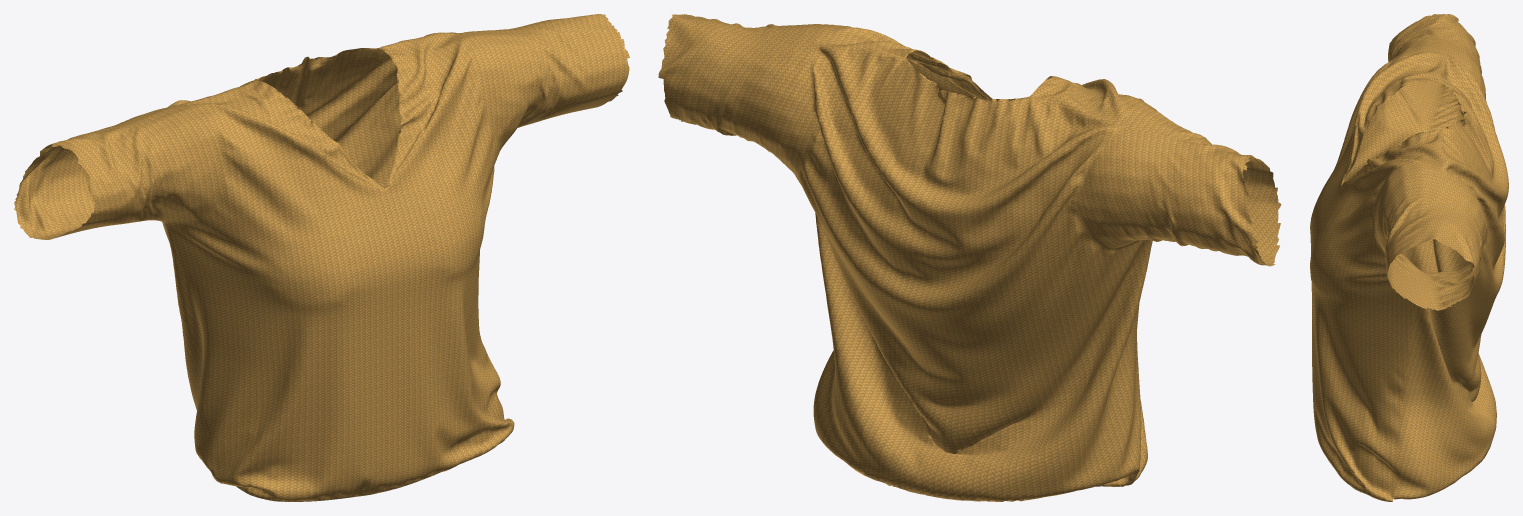
The model's file is female_orange_tshirt_L.glb.
3 renders of one model, left to right at view 1: azimuth 30°, elevation 25°; view 2: azimuth 150°, elevation 25°; view 3: azimuth 270°, elevation 25°, orthographic. The views are drawn at different scales.
Visible parts, largest first — view 1: weld_chompa_varon_3b_Material719171_0; view 2: weld_chompa_varon_3b_Material719171_0; view 3: weld_chompa_varon_3b_Material719171_0.
Boxes of the visible parts, bbox=[...] form: weld_chompa_varon_3b_Material719171_0: bbox=[14, 14, 629, 501]; weld_chompa_varon_3b_Material719171_0: bbox=[658, 14, 1281, 501]; weld_chompa_varon_3b_Material719171_0: bbox=[1310, 14, 1508, 501].
Bounding box in the file's own units: 0.754 × 0.482 × 0.261.
Materials: 1 (1 with a texture image).
